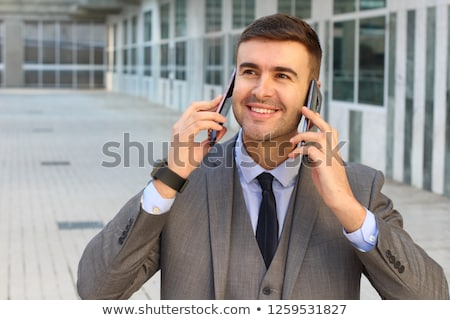phone: (300, 79, 329, 165), (209, 66, 236, 151)
talk: (171, 59, 299, 177), (235, 59, 347, 192)
